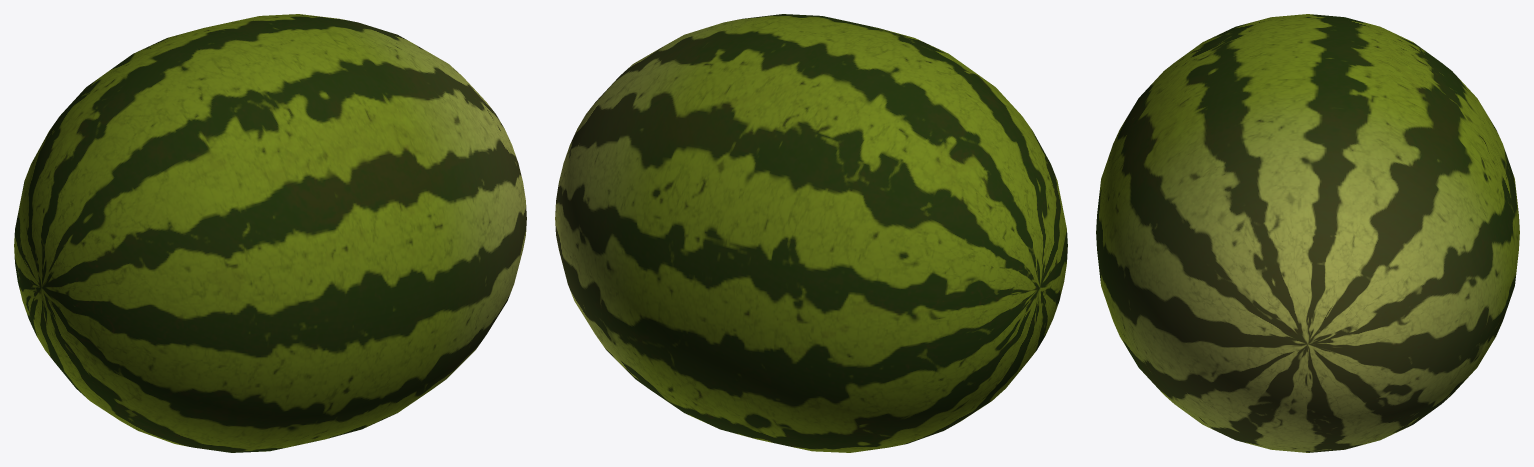
Rendered from WaterMelon.fbx.
3 renders of one model, left to right at view 1: azimuth 30°, elevation 25°; view 2: azimuth 150°, elevation 25°; view 3: azimuth 270°, elevation 25°, orthographic. The views are drawn at different scales.
Visible parts, largest first — view 1: Sphere; view 2: Sphere; view 3: Sphere.
Part boxes in pixels (x1,y1,x2,y2): Sphere: (14, 14, 526, 452); Sphere: (555, 14, 1067, 452); Sphere: (1096, 14, 1519, 452).
Size of the model in its own units: 1.02 by 0.8219 by 0.8434.
